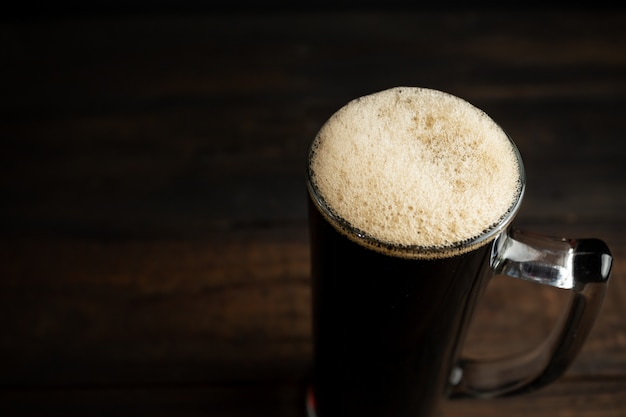alcohol: (306, 83, 617, 417)
